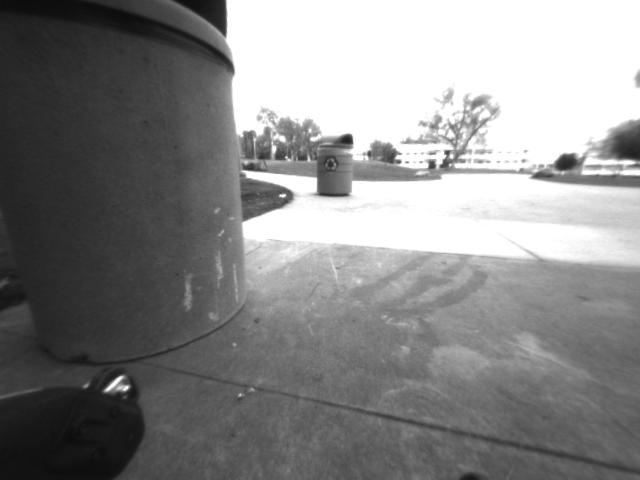trashcan: (1, 2, 243, 374)
